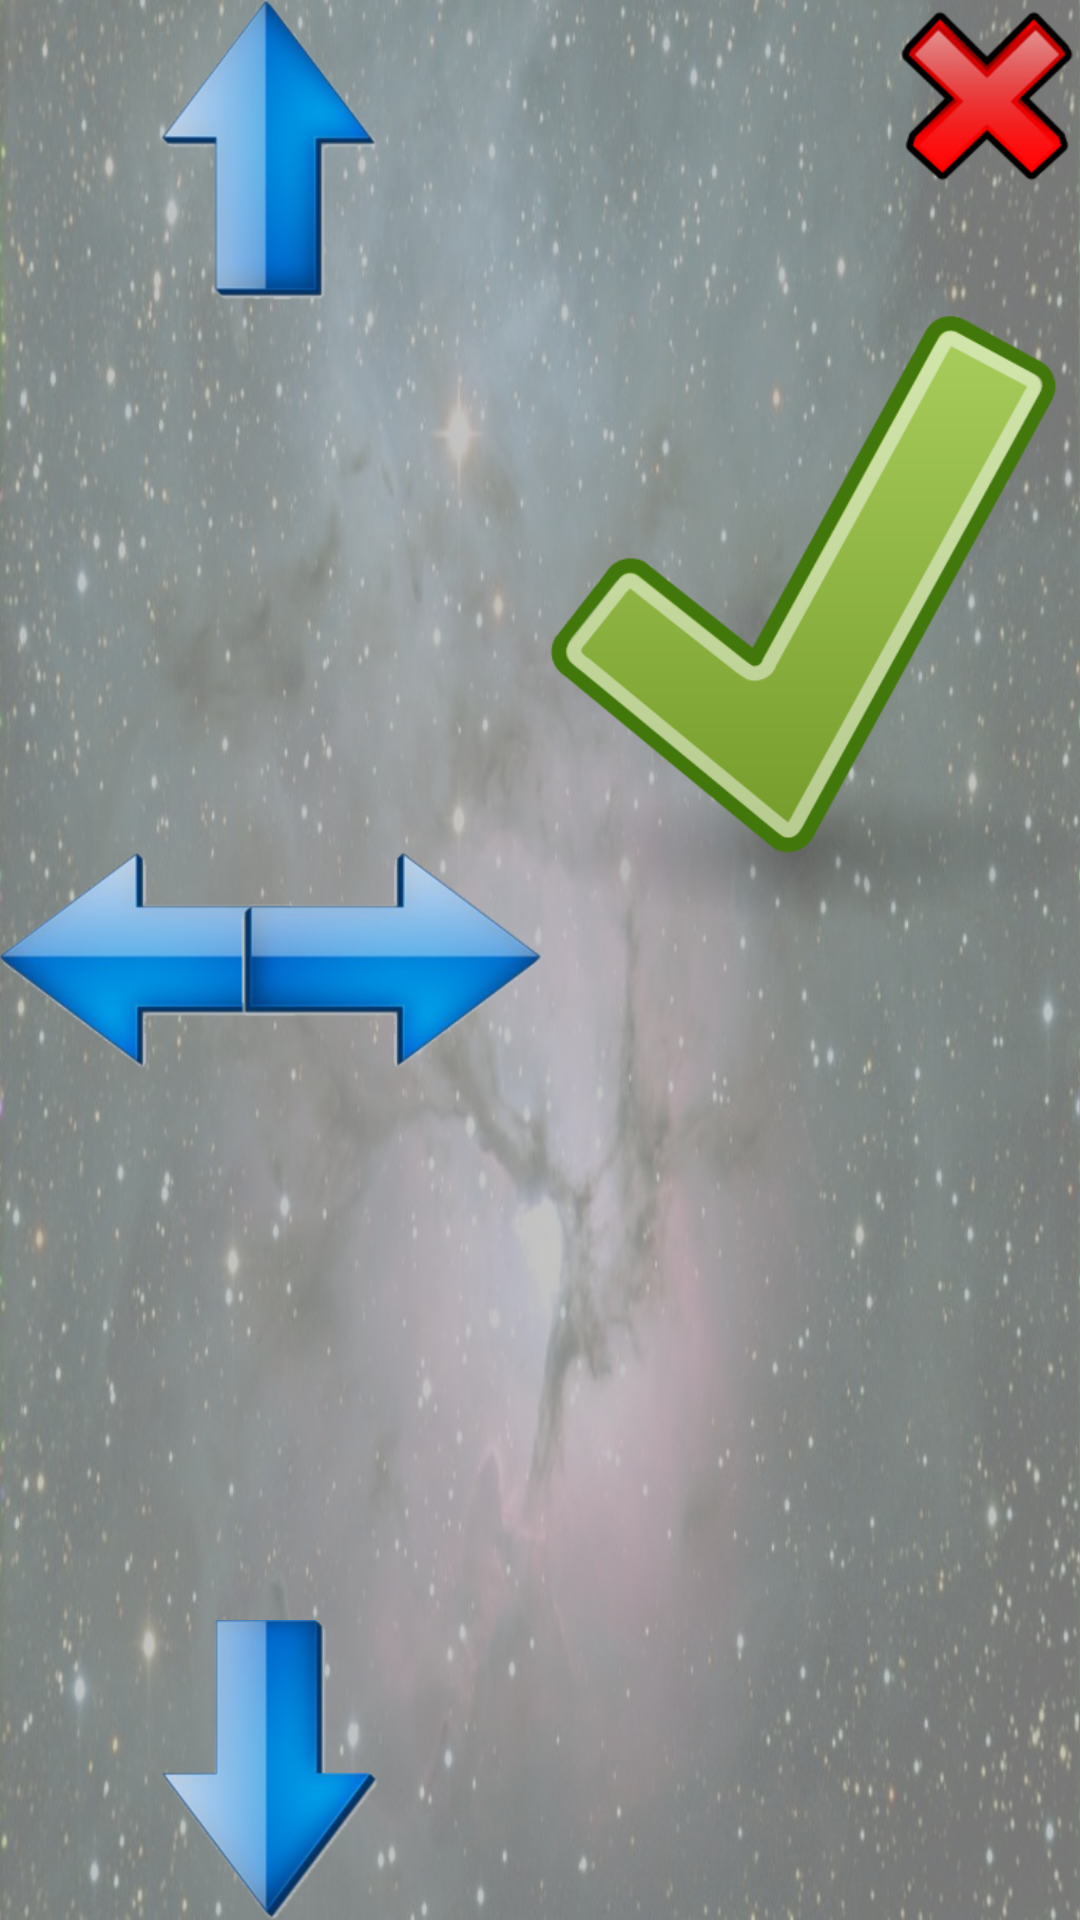

Icons on this 1080*1920 Android screen, each with the point to tap as (x=x, y=y):
close: (x=985, y=96)
seta baixo: (x=270, y=1769)
seta cima: (x=269, y=150)
seta dir: (x=391, y=960)
seta esq: (x=149, y=960)
